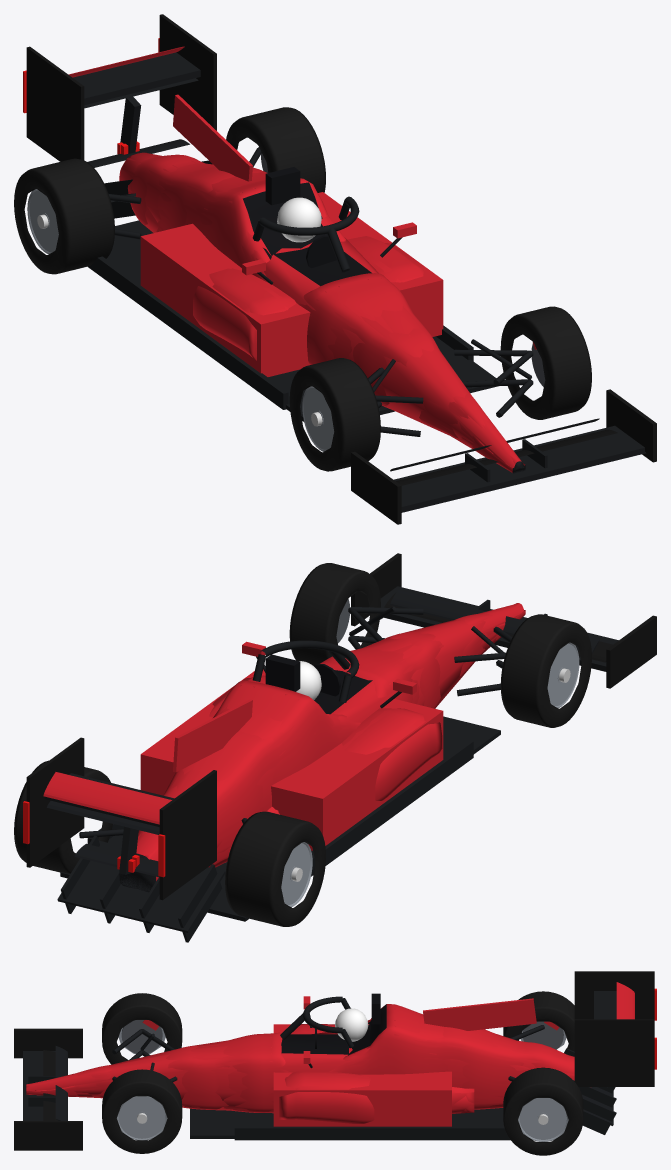
3 renders of one model, top to bottom at view 1: azimuth 30°, elevation 25°; view 2: azimuth 150°, elevation 25°; view 3: azimuth 270°, elevation 25°, orthographic. The views are drawn at different scales.
Parts seen in each view (by area): view 1: body (×3), carbon (×3), rubber (×7), paint (×3), accent, rim (×2), helmet, black; view 2: body (×3), carbon (×3), paint (×3), rubber (×7), accent, rim (×2), black (×2), helmet, taillight; view 3: body (×3), carbon (×3), paint (×3), rubber (×8), accent, rim (×2), disc (×4), helmet, black.
Part boxes in pixels (x1,y1,x2,y2): body (×3): (119,152,525,473); carbon (×3): (73,52,645,512); rubber (×7): (14,107,591,471); paint (×3): (68,46,443,376); accent: (26,14,656,524); rim (×2): (27,189,334,451); helmet: (277,197,321,242); black: (265,167,300,205); body (×3): (119,603,525,892); carbon (×3): (44,586,618,942); paint (×3): (43,641,443,850); rubber (×7): (14,563,591,926); accent: (26,553,656,900); rim (×2): (281,642,579,907); black (×2): (265,654,340,696); helmet: (296,661,321,699); taillight: (23,801,165,877); body (×3): (26,1004,574,1113); carbon (×3): (23,991,616,1140); paint (×3): (273,982,634,1126); rubber (×8): (102,991,583,1155); accent: (14,971,654,1150); rim (×2): (116,1096,568,1141); disc (×4): (121,1020,563,1053); helmet: (335,1008,368,1041); black: (371,993,380,1024).
Size of the model in its own units: 2 by 1.17 by 5.77.
